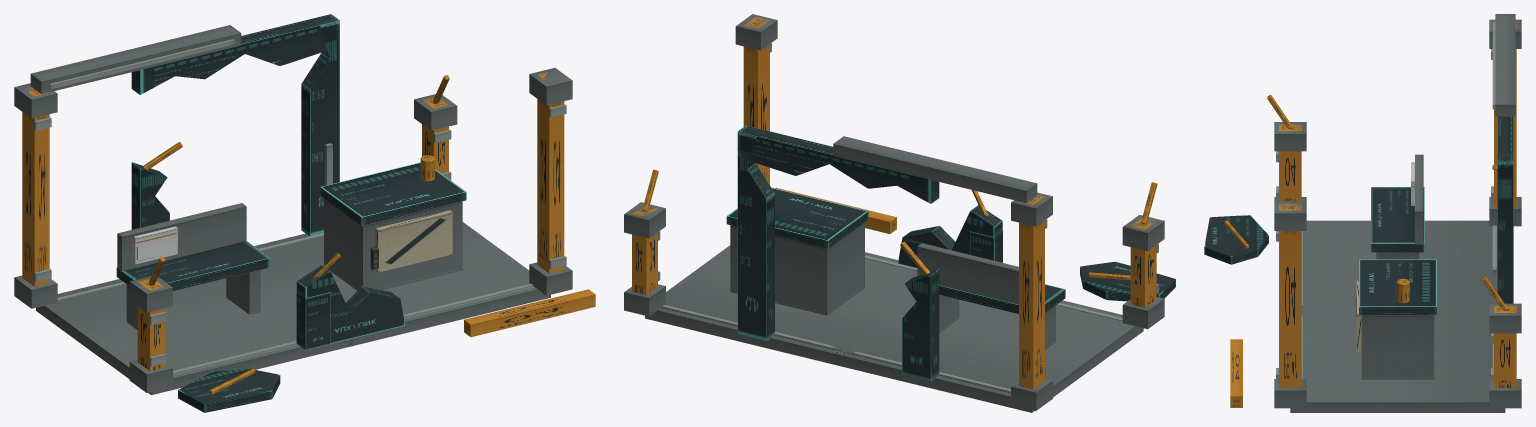
The model's file is WreckWorkshop_LOD2.obj.
3 renders of one model, left to right at view 1: azimuth 30°, elevation 25°; view 2: azimuth 150°, elevation 25°; view 3: azimuth 270°, elevation 25°, orthographic. The views are drawn at different scales.
Visible parts, largest first — view 1: 000_floor_4m.022, 009_generator.002, 007_wall_breach_4m.002, 001_floor_4m.014, 008_workbench.002, 003_column_4m.002, 004_column_4m.002, 012_wall_fragment.002, 006_beam_4m.002, 002_column_broken.002, 011_debris_panel.002, 010_debris_beam.002 (+1 smaller); view 2: 007_wall_breach_4m.002, 000_floor_4m.022, 001_floor_4m.014, 009_generator.002, 004_column_4m.002, 008_workbench.002, 006_beam_4m.002, 002_column_broken.002, 005_column_broken.002, 003_column_4m.002, 012_wall_fragment.002, 011_debris_panel.002 (+1 smaller); view 3: 001_floor_4m.014, 000_floor_4m.022, 009_generator.002, 003_column_4m.002, 008_workbench.002, 007_wall_breach_4m.002, 005_column_broken.002, 011_debris_panel.002, 002_column_broken.002, 006_beam_4m.002, 004_column_4m.002, 010_debris_beam.002.
Boxes of the visible parts, x1,y1,x2,y2 form: 000_floor_4m.022: [36, 269, 350, 394]; 009_generator.002: [320, 155, 466, 290]; 007_wall_breach_4m.002: [131, 14, 339, 236]; 001_floor_4m.014: [254, 222, 550, 346]; 008_workbench.002: [116, 203, 270, 329]; 003_column_4m.002: [529, 68, 572, 295]; 004_column_4m.002: [14, 83, 57, 308]; 012_wall_fragment.002: [296, 253, 405, 350]; 006_beam_4m.002: [30, 25, 241, 94]; 002_column_broken.002: [129, 257, 172, 392]; 011_debris_panel.002: [178, 368, 280, 412]; 010_debris_beam.002: [464, 289, 595, 337]; 007_wall_breach_4m.002: [737, 125, 939, 381]; 000_floor_4m.022: [838, 299, 1143, 412]; 001_floor_4m.014: [645, 245, 917, 365]; 009_generator.002: [726, 187, 868, 315]; 004_column_4m.002: [1011, 192, 1052, 410]; 008_workbench.002: [917, 243, 1065, 349]; 006_beam_4m.002: [833, 136, 1037, 202]; 002_column_broken.002: [1122, 182, 1164, 329]; 005_column_broken.002: [624, 169, 665, 316]; 003_column_4m.002: [735, 14, 777, 184]; 012_wall_fragment.002: [898, 190, 1002, 268]; 011_debris_panel.002: [1080, 261, 1175, 301]; 001_floor_4m.014: [1290, 311, 1505, 412]; 000_floor_4m.022: [1301, 220, 1497, 311]; 009_generator.002: [1356, 259, 1436, 379]; 003_column_4m.002: [1274, 201, 1306, 408]; 008_workbench.002: [1371, 154, 1424, 259]; 007_wall_breach_4m.002: [1492, 116, 1513, 303]; 005_column_broken.002: [1482, 276, 1521, 408]; 011_debris_panel.002: [1204, 215, 1268, 264]; 002_column_broken.002: [1267, 95, 1306, 201]; 006_beam_4m.002: [1492, 14, 1515, 116]; 004_column_4m.002: [1489, 19, 1521, 226]; 010_debris_beam.002: [1230, 339, 1242, 407].
Size of the model in its own units: 8.52 by 4.46 by 5.9.
Materials: 1 (1 with a texture image).
